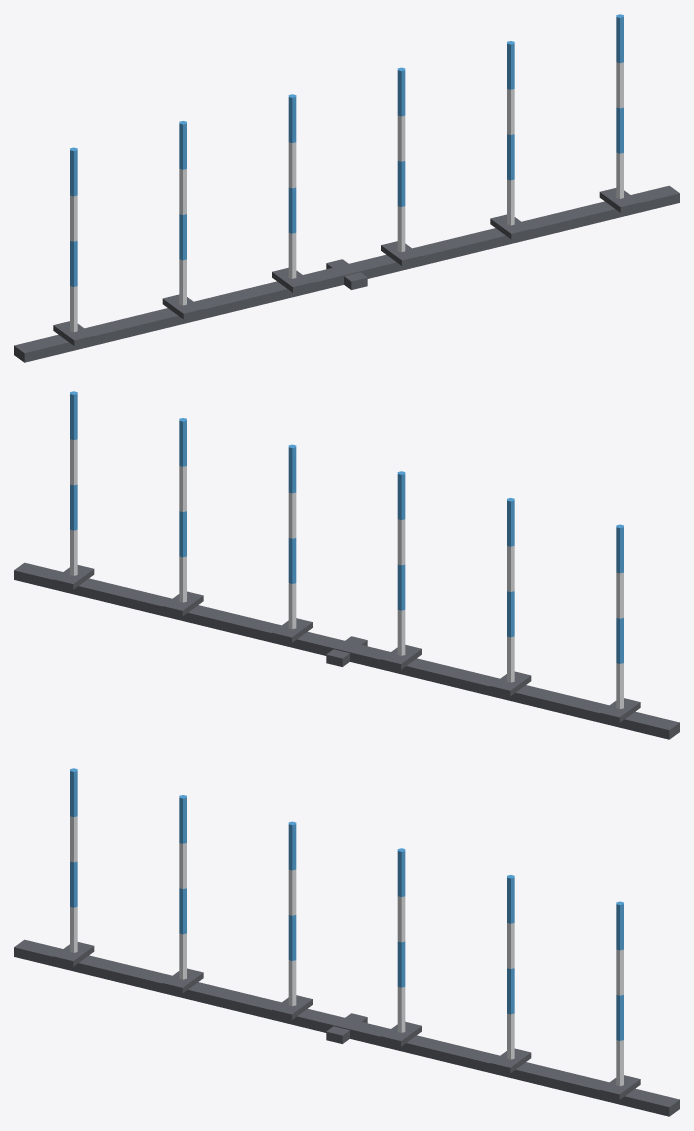
The model's file is dog-agility-and-training-field-weave-pole-set-a702aaab__35586.glb.
3 renders of one model, top to bottom at view 1: azimuth 30°, elevation 25°; view 2: azimuth 150°, elevation 25°; view 3: azimuth 330°, elevation 25°, orthographic.
Visible parts, largest first — view 1: weave-pole-set-charcoal, weave-pole-set-azure, weave-pole-set-steel; view 2: weave-pole-set-charcoal, weave-pole-set-azure, weave-pole-set-steel; view 3: weave-pole-set-charcoal, weave-pole-set-azure, weave-pole-set-steel.
Part boxes in pixels (left/top/right/bottom): weave-pole-set-charcoal: left=14, top=185, right=679, bottom=362; weave-pole-set-azure: left=70, top=14, right=623, bottom=286; weave-pole-set-steel: left=70, top=62, right=623, bottom=331; weave-pole-set-charcoal: left=14, top=562, right=679, bottom=739; weave-pole-set-azure: left=70, top=391, right=623, bottom=663; weave-pole-set-steel: left=70, top=439, right=623, bottom=708; weave-pole-set-charcoal: left=14, top=939, right=679, bottom=1116; weave-pole-set-azure: left=70, top=768, right=623, bottom=1040; weave-pole-set-steel: left=70, top=816, right=623, bottom=1085.
Bounding box in the file's own units: 3.6 × 1.03 × 0.2399.
